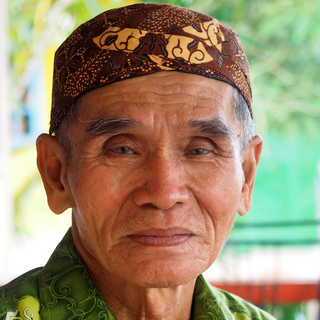eye: (179, 139, 224, 163), (100, 139, 146, 162)
